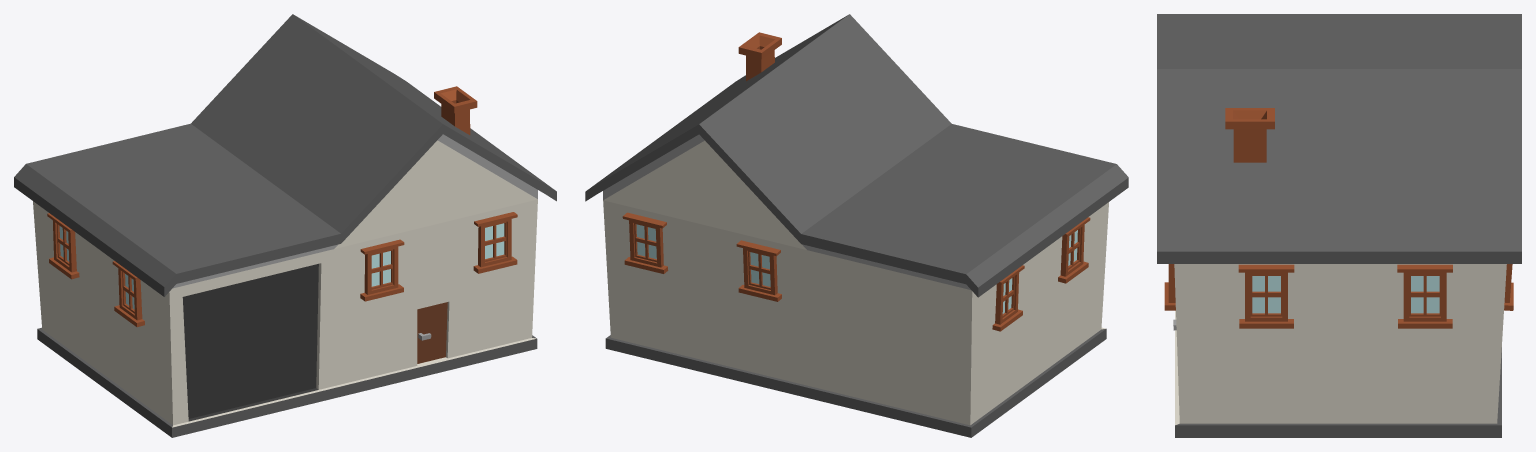
Rendered from House4.glb.
3 renders of one model, left to right at view 1: azimuth 30°, elevation 25°; view 2: azimuth 150°, elevation 25°; view 3: azimuth 270°, elevation 25°, orthographic. The views are drawn at different scales.
Visible parts, largest first — view 1: House4; view 2: House4; view 3: House4.
Boxes of the visible parts, bbox=[...] form: House4: bbox=[14, 14, 556, 437]; House4: bbox=[585, 14, 1128, 437]; House4: bbox=[1157, 14, 1521, 437].
Bounding box in the file's own units: 2.16 × 1.34 × 1.44.
1 material, 1 textured.
